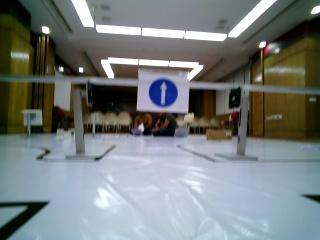straight: (136, 67, 189, 113)
